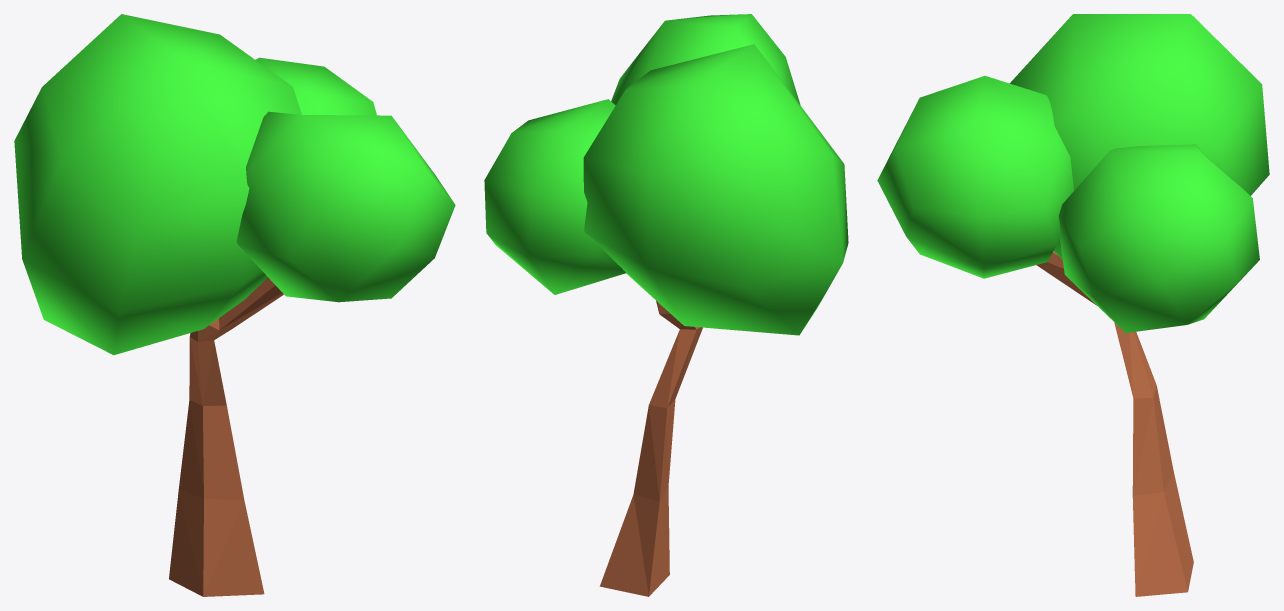
The model's file is treemark2.dae.
3 renders of one model, left to right at view 1: azimuth 30°, elevation 25°; view 2: azimuth 150°, elevation 25°; view 3: azimuth 270°, elevation 25°, orthographic. The views are drawn at different scales.
Visible parts, largest first — view 1: crown4, trunk4; view 2: crown4, trunk4; view 3: crown4, trunk4.
Part boxes in pixels (bbox=[...]): crown4: bbox=[14, 14, 455, 355]; trunk4: bbox=[169, 277, 283, 596]; crown4: bbox=[484, 14, 848, 335]; trunk4: bbox=[599, 301, 702, 596]; crown4: bbox=[877, 14, 1269, 332]; trunk4: bbox=[1036, 251, 1193, 596].
Size of the model in its own units: 18.7 by 18.59 by 27.86.
